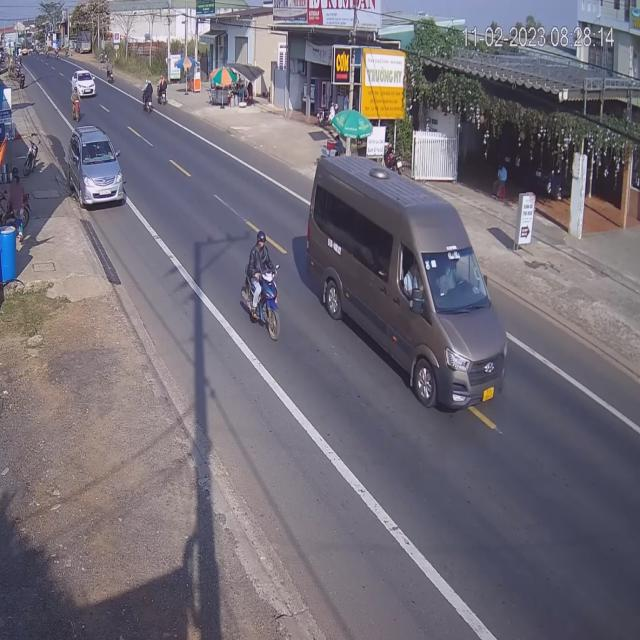bus: (308, 153, 512, 418)
car: (68, 124, 124, 208), (74, 70, 98, 99)
motorbike: (240, 234, 278, 342), (141, 80, 154, 114), (159, 78, 169, 110), (72, 93, 82, 123), (107, 64, 114, 86)
